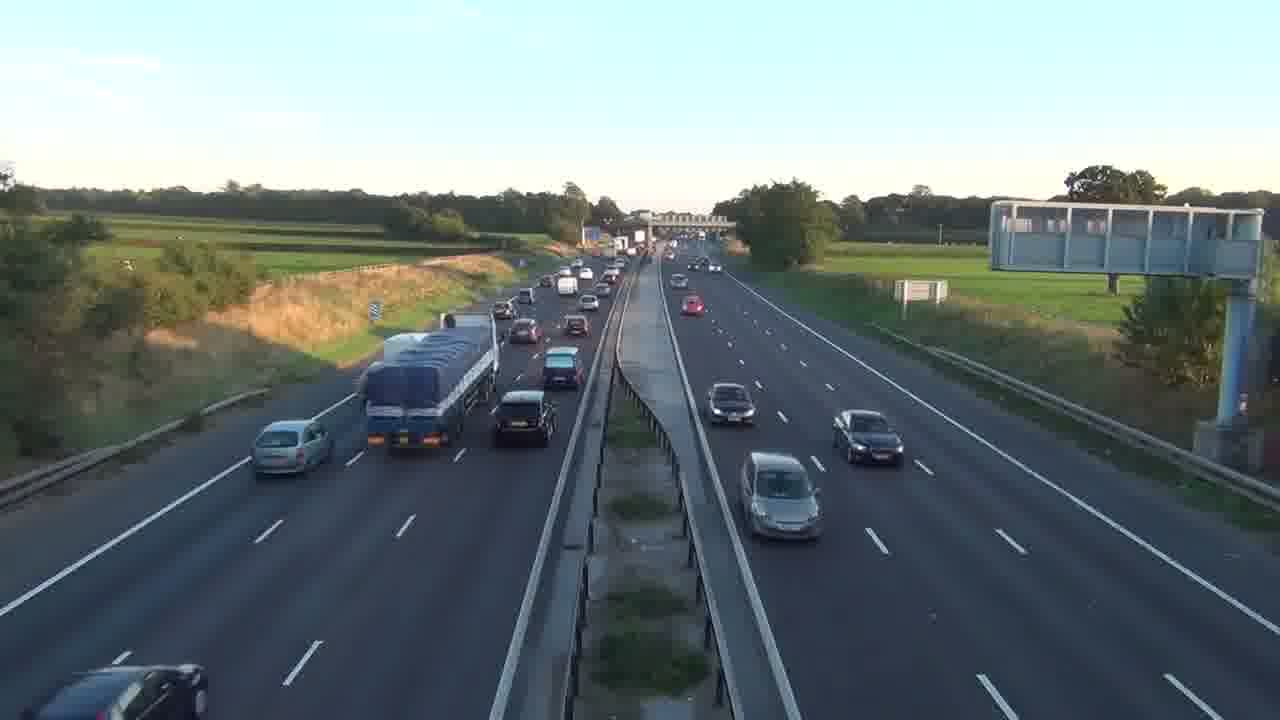car: (738, 449, 825, 542), (252, 418, 333, 476), (832, 408, 905, 466), (707, 381, 758, 426), (542, 346, 583, 390), (507, 317, 544, 345), (681, 294, 706, 317)
truck: (364, 313, 500, 454)
